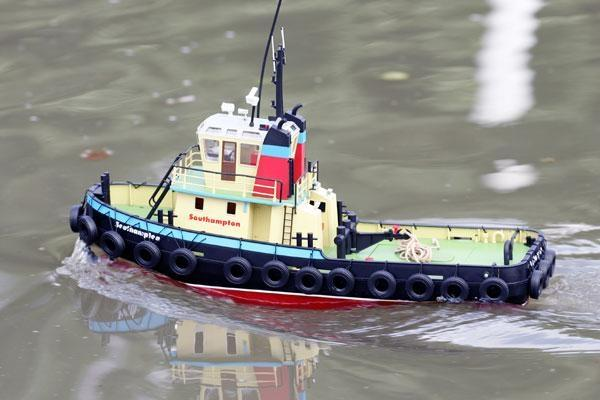Boat: (77, 22, 548, 305)
